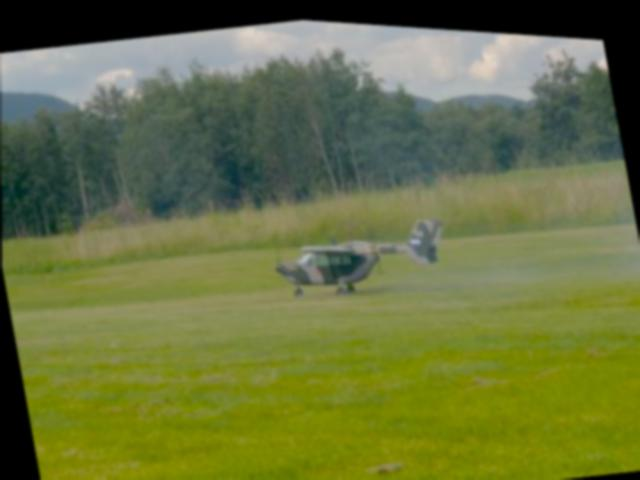uav: (266, 196, 454, 307)
